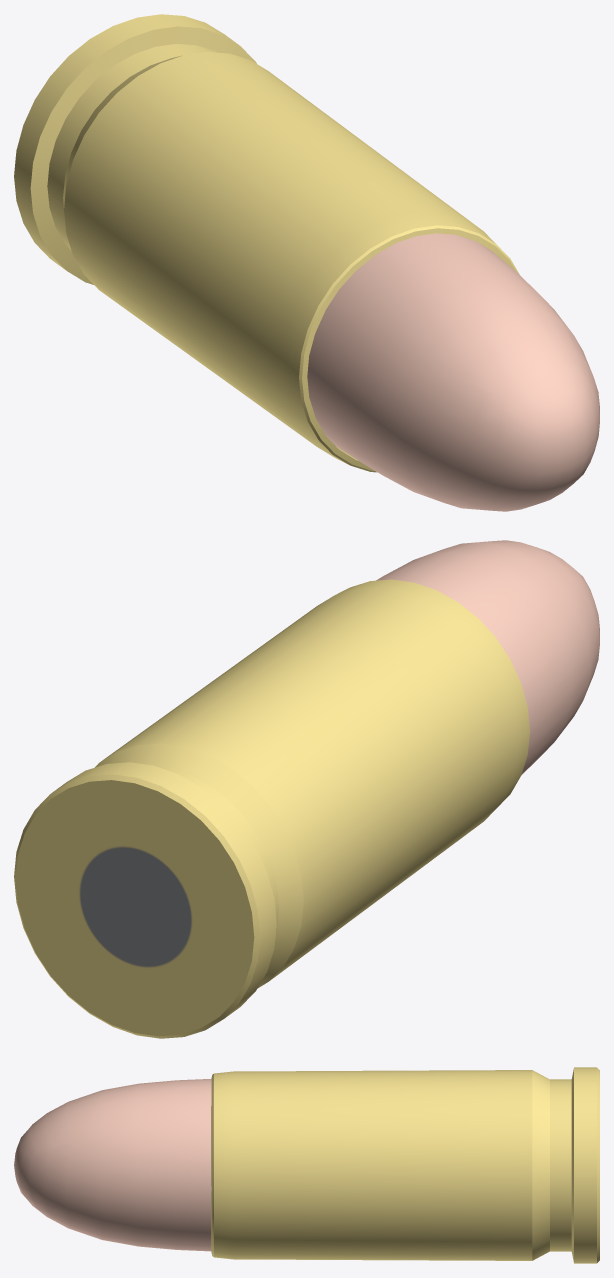
The model's file is mermi.fbx.
3 renders of one model, top to bottom at view 1: azimuth 30°, elevation 25°; view 2: azimuth 150°, elevation 25°; view 3: azimuth 270°, elevation 25°, orthographic. The views are drawn at different scales.
Parts seen in each view (by area): view 1: 9mm_Bullet; view 2: 9mm_Bullet; view 3: 9mm_Bullet.
Part boxes in pixels (x1,y1,x2,y2): 9mm_Bullet: (14,14,599,511); 9mm_Bullet: (14,540,599,1038); 9mm_Bullet: (14,1067,599,1263).
Bounding box in the file's own units: 40.7 × 40.7 × 121.
Materials: 2 (2 with a texture image).
